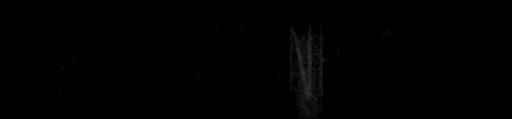letter: (142, 20, 174, 105), (112, 18, 142, 107), (312, 21, 344, 104), (82, 18, 112, 105), (425, 20, 455, 105), (174, 20, 204, 105), (286, 22, 316, 107), (20, 17, 50, 100), (254, 19, 284, 102), (346, 21, 376, 104), (225, 21, 253, 104), (396, 22, 424, 103), (203, 20, 229, 105), (52, 20, 78, 103), (474, 23, 498, 104), (376, 23, 396, 104), (456, 23, 476, 102)
